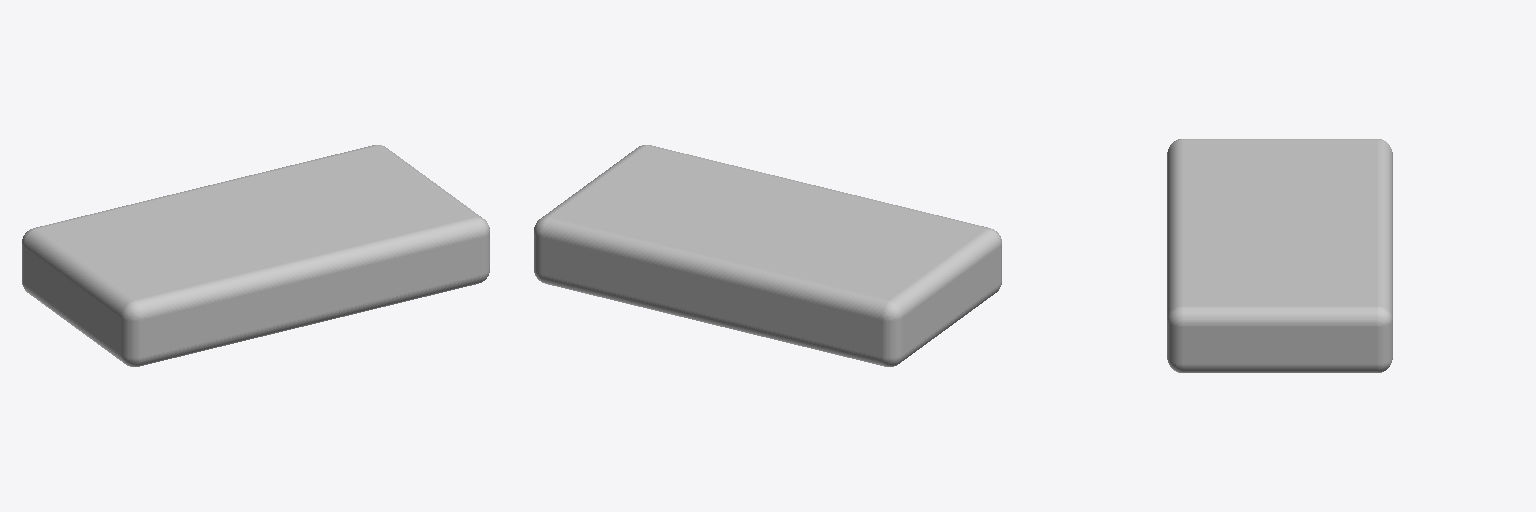
File: cloud.obj
3 views of the same model, side by side, from view 1: azimuth 30°, elevation 25°; view 2: azimuth 150°, elevation 25°; view 3: azimuth 270°, elevation 25° (orthographic).
Visible parts, largest first — view 1: Cube; view 2: Cube; view 3: Cube.
Part boxes in pixels (bbox=[...]): Cube: bbox=[22, 145, 489, 366]; Cube: bbox=[534, 145, 1001, 366]; Cube: bbox=[1167, 139, 1392, 372].
Bounding box in the file's own units: 3.76 × 0.6436 × 2.